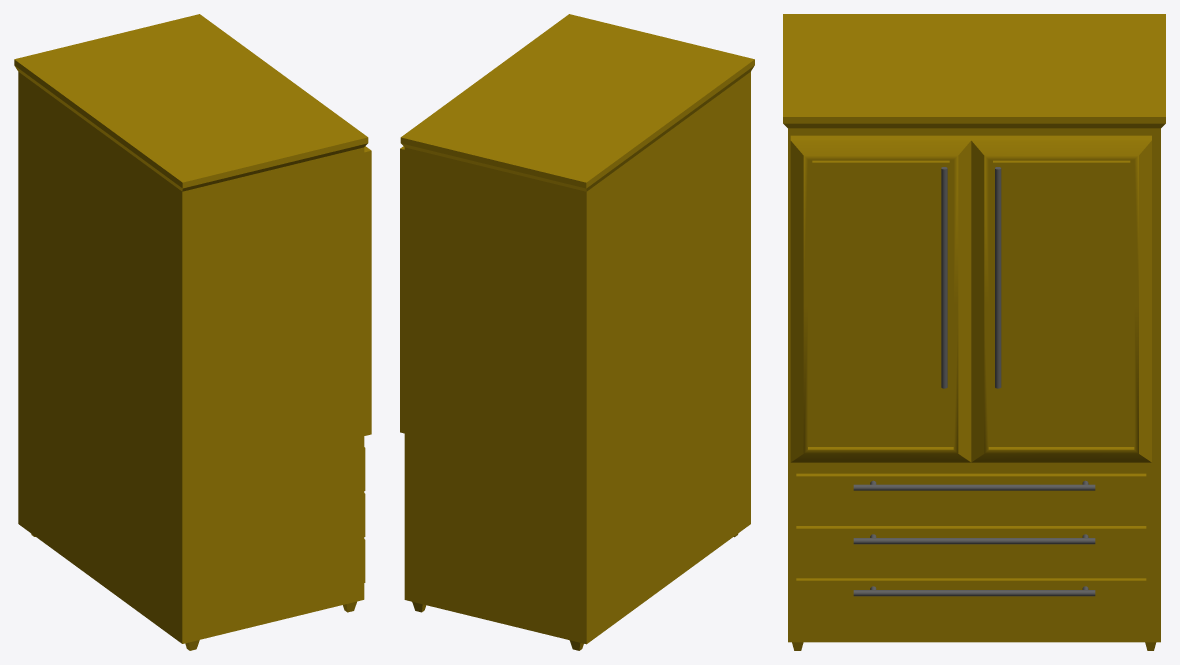
Rendered from Dresser.fbx.
The picture shows the model from 3 angles, left to right: view 1: azimuth 30°, elevation 25°; view 2: azimuth 150°, elevation 25°; view 3: azimuth 270°, elevation 25°; orthographic projection. The views are drawn at different scales.
Parts seen in each view (by area): view 1: Dresser_Base, Dresser_Door_L; view 2: Dresser_Base, Dresser_Door_R1; view 3: Dresser_Base, Dresser_Door_L, Dresser_Door_R1, Drawer_Top, Drawer_Mid, Drawer_Bot.
Part boxes in pixels (x1=…): Dresser_Base: x1=14, y1=14, x2=368, y2=650; Dresser_Door_L: x1=364, y1=146, x2=371, y2=435; Dresser_Base: x1=400, y1=14, x2=754, y2=650; Dresser_Door_R1: x1=400, y1=146, x2=404, y2=433; Dresser_Base: x1=783, y1=14, x2=1165, y2=650; Dresser_Door_L: x1=790, y1=135, x2=971, y2=462; Dresser_Door_R1: x1=971, y1=135, x2=1151, y2=462; Drawer_Top: x1=796, y1=473, x2=1146, y2=525; Drawer_Mid: x1=796, y1=526, x2=1146, y2=577; Drawer_Bot: x1=796, y1=578, x2=1146, y2=629.
Size of the model in its own units: 85.12 by 189 by 122.
